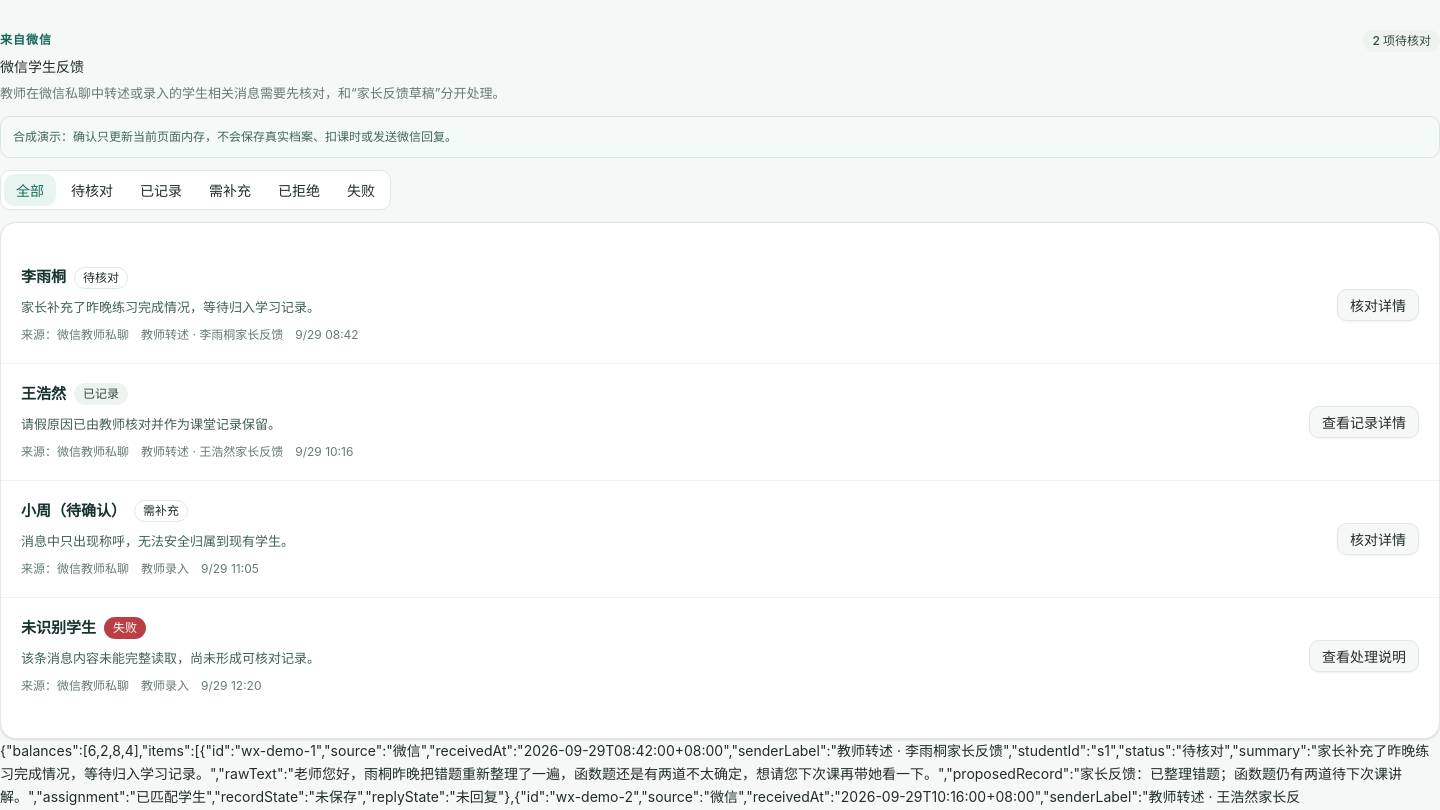
微信学生反馈收件区 › 未知学生保持未归属，不能默认确认或按称呼自动匹配
Click the 2nd button "核对详情". click: click(1378, 539)
box: [1337,523,1419,555]
(page scrolled)
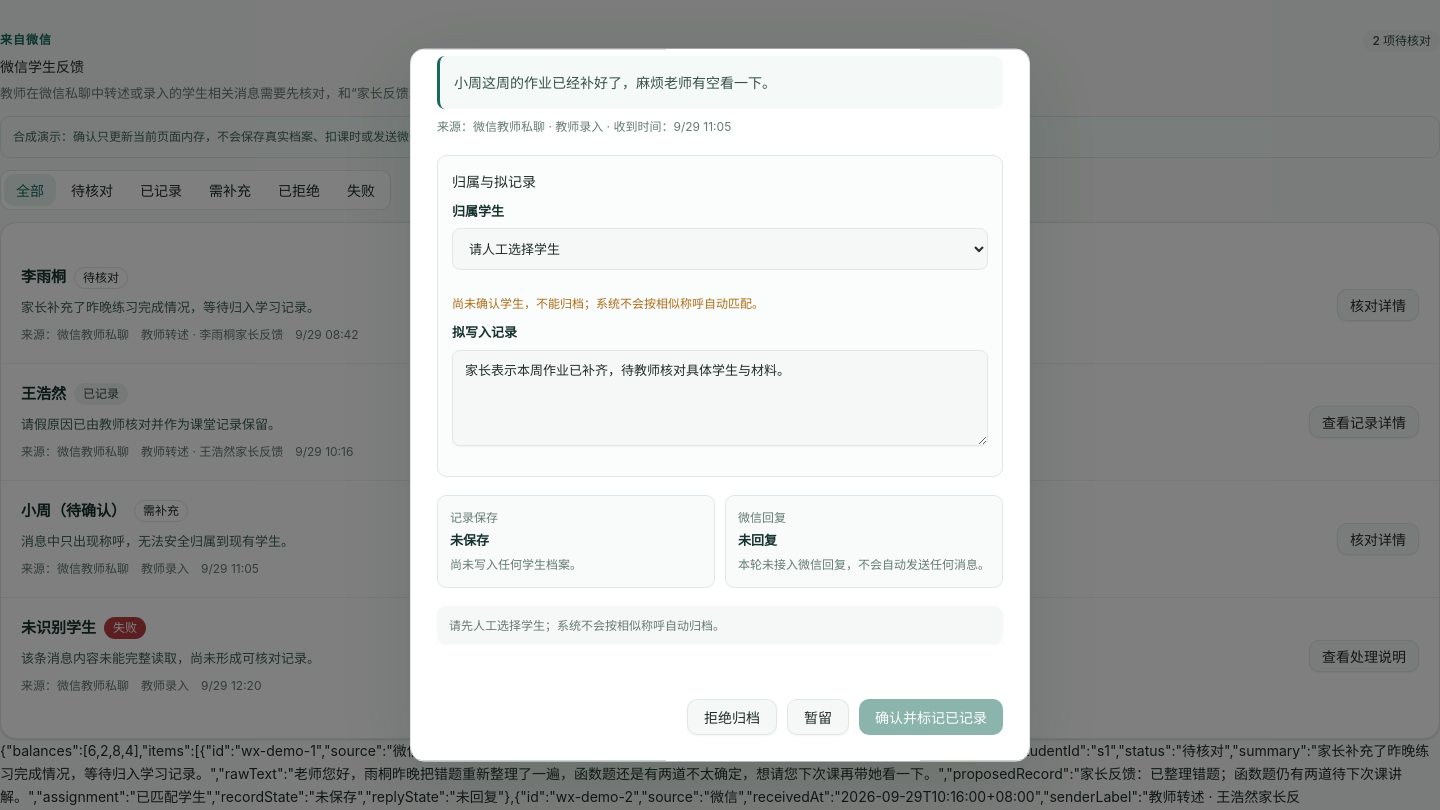
Expected: the dropdown labelled "归属学生" shows "请人工选择学生", [452,228,988,270]
Expected: the text "尚未确认学生，不能归档；系统不会按相似称呼自动匹配。" is shown, [452,296,764,311]
Expected: the button "确认并标记已记录" is disabled, [859,699,1003,735]
